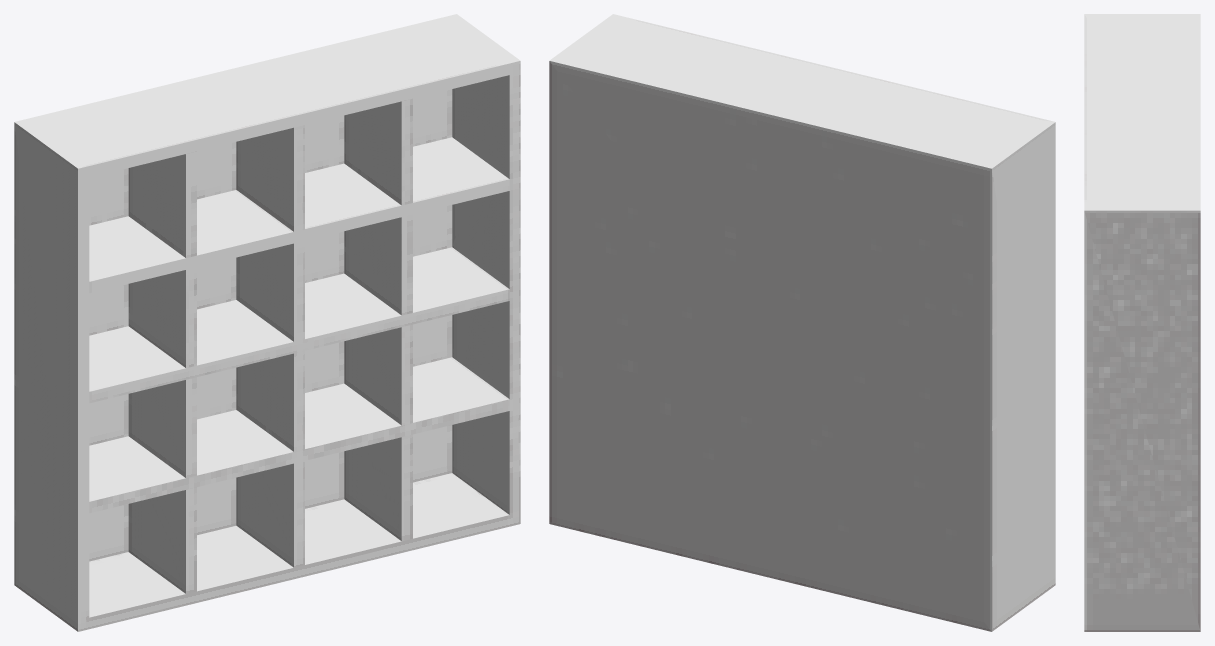
File: room_bookshelf.glb
3 renders of one model, left to right at view 1: azimuth 30°, elevation 25°; view 2: azimuth 150°, elevation 25°; view 3: azimuth 270°, elevation 25°, orthographic. The views are drawn at different scales.
Visible parts, largest first — view 1: mesh; view 2: mesh; view 3: mesh.
Part boxes in pixels (x1,y1,x2,y2): mesh: [14, 14, 520, 631]; mesh: [549, 14, 1055, 631]; mesh: [1084, 14, 1200, 631].
Size of the model in its own units: 0.91 by 0.91 by 0.2275.
1 material, 1 textured.
